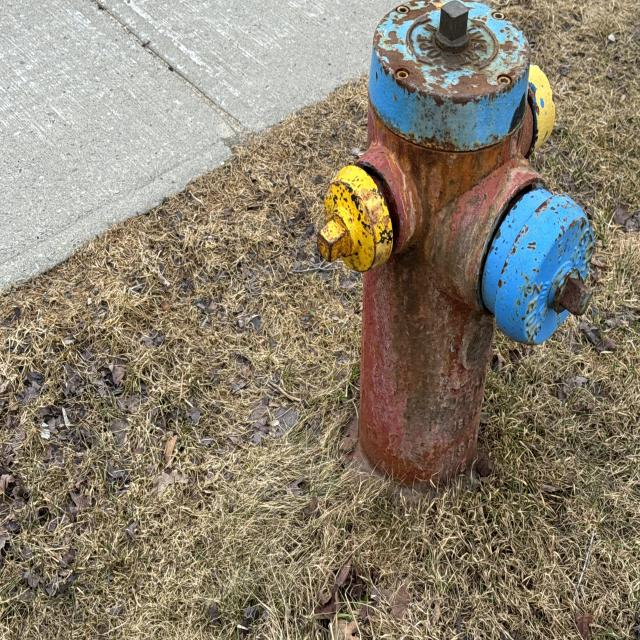Fire hydrant: (315, 1, 597, 511)
